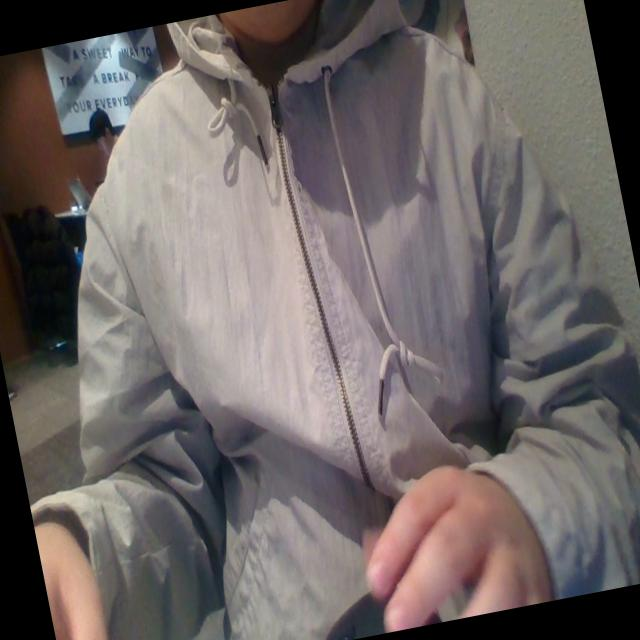hand: (321, 425, 548, 639)
